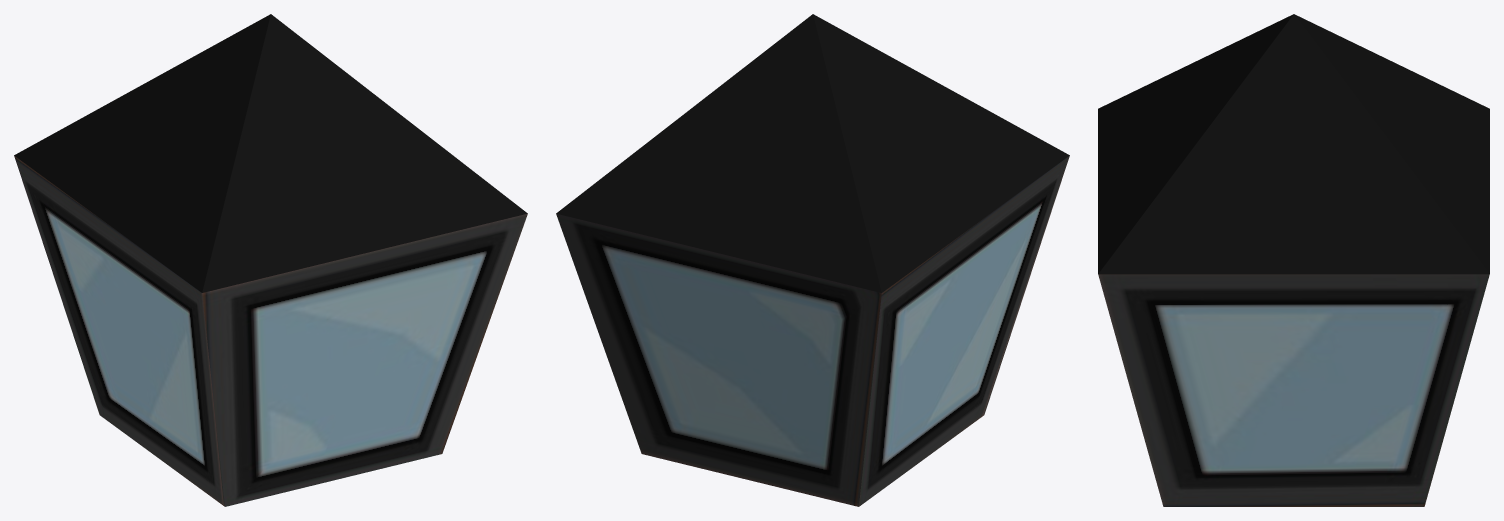
The model's file is lampara.obj.
The picture shows the model from 3 angles, left to right: view 1: azimuth 30°, elevation 25°; view 2: azimuth 150°, elevation 25°; view 3: azimuth 270°, elevation 25°; orthographic projection. The views are drawn at different scales.
Visible parts, largest first — view 1: lampara_Plane.004_Material.089, lampara_Plane.004_Material.088; view 2: lampara_Plane.004_Material.089, lampara_Plane.004_Material.088; view 3: lampara_Plane.004_Material.088, lampara_Plane.004_Material.089.
Part boxes in pixels (left/top/right/bottom): lampara_Plane.004_Material.089: left=14, top=155, right=527, bottom=506; lampara_Plane.004_Material.088: left=14, top=14, right=527, bottom=292; lampara_Plane.004_Material.089: left=556, top=155, right=1069, bottom=506; lampara_Plane.004_Material.088: left=556, top=14, right=1069, bottom=292; lampara_Plane.004_Material.088: left=1098, top=14, right=1489, bottom=274; lampara_Plane.004_Material.089: left=1098, top=274, right=1489, bottom=506.
Bounding box in the file's own units: 2.1 × 2.59 × 2.1.
2 materials, 2 textured.
